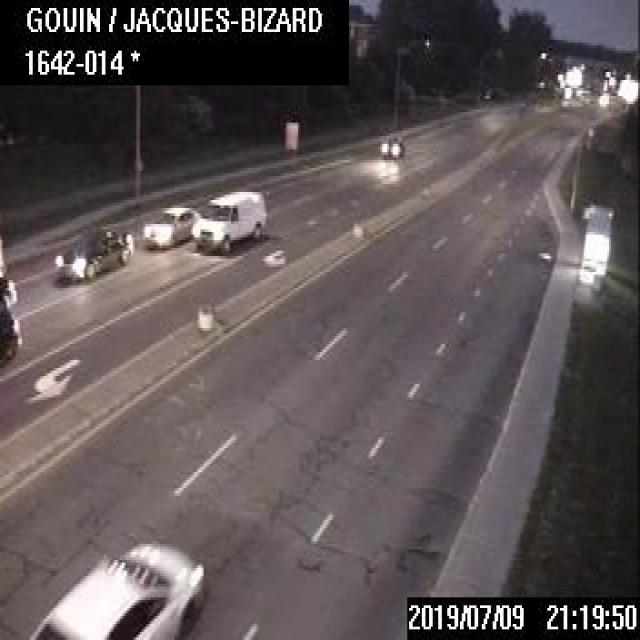vehicle: (25, 539, 204, 637), (190, 190, 264, 253), (53, 228, 130, 279), (143, 204, 200, 247), (0, 274, 22, 362), (380, 136, 402, 155)
